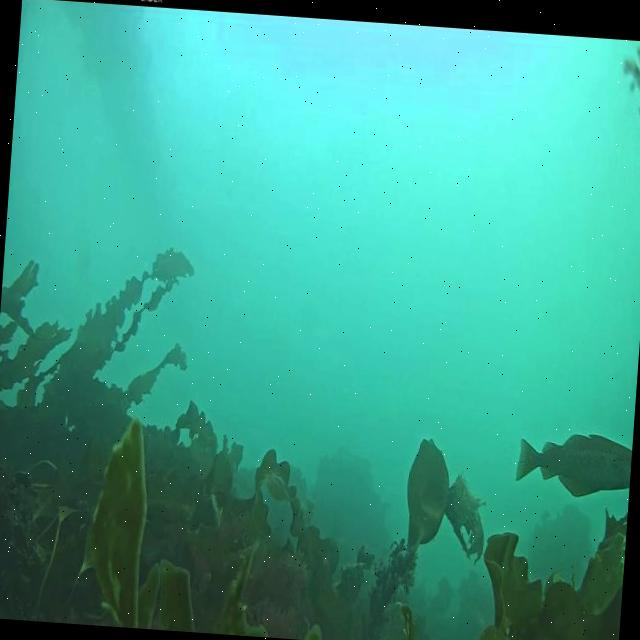fish: (516, 426, 632, 497)
